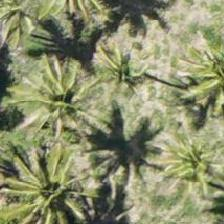coconut_tree: (24, 48, 114, 138), (14, 138, 104, 223), (155, 115, 223, 205), (167, 30, 223, 120), (0, 0, 67, 55)
